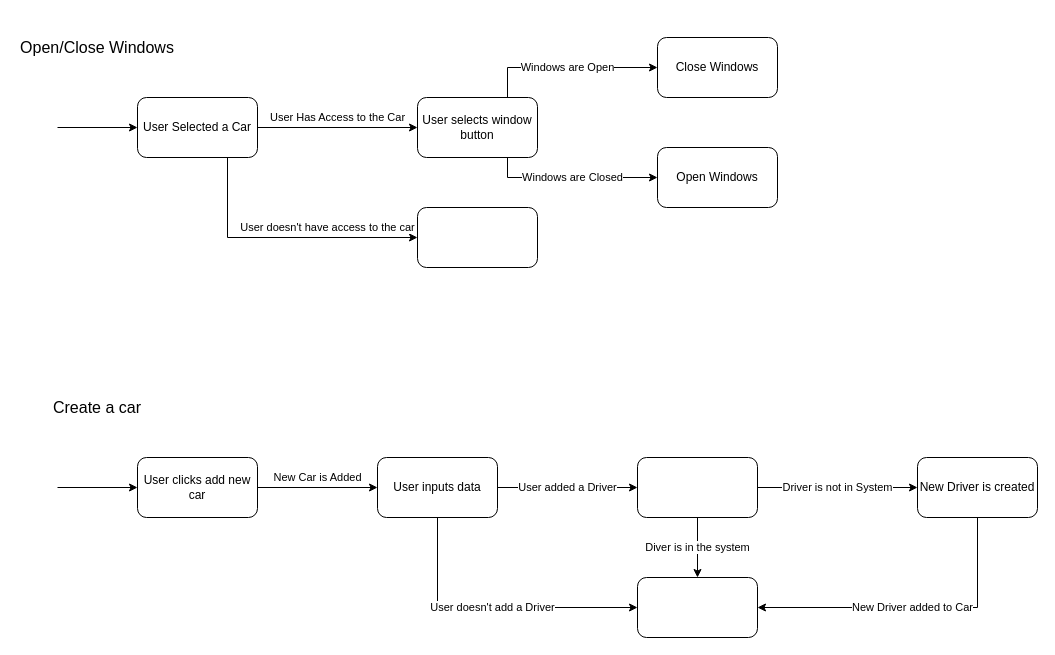
This 1055x655 diagram has some shape labels left out. Each missing label, with the box of its shape:
A new Car is created: (636, 576, 758, 638)
Error Message: (416, 206, 538, 268)
System checks if driver exists: (636, 456, 758, 518)
